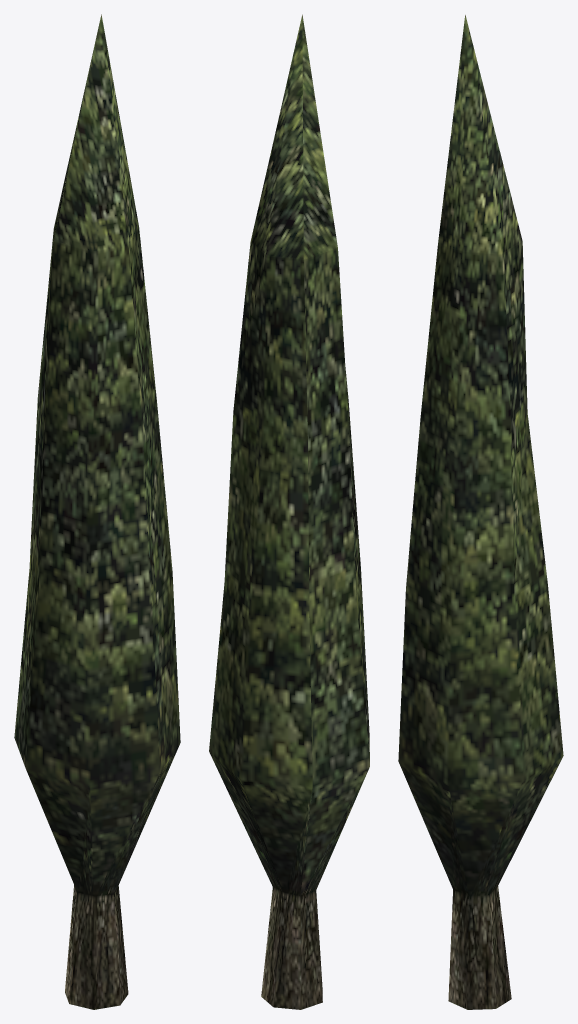
File: tree_cypress_tall.dae
3 views of the same model, side by side, from view 1: azimuth 30°, elevation 25°; view 2: azimuth 150°, elevation 25°; view 3: azimuth 270°, elevation 25° (orthographic).
Parts seen in each view (by area): view 1: Cylinder01; view 2: Cylinder01; view 3: Cylinder01.
Part boxes in pixels (x1,y1,x2,y2): Cylinder01: (14,14,180,1009); Cylinder01: (209,14,369,1009); Cylinder01: (398,15,563,1009).
Size of the model in its own units: 2.51 by 2.53 by 16.6.
